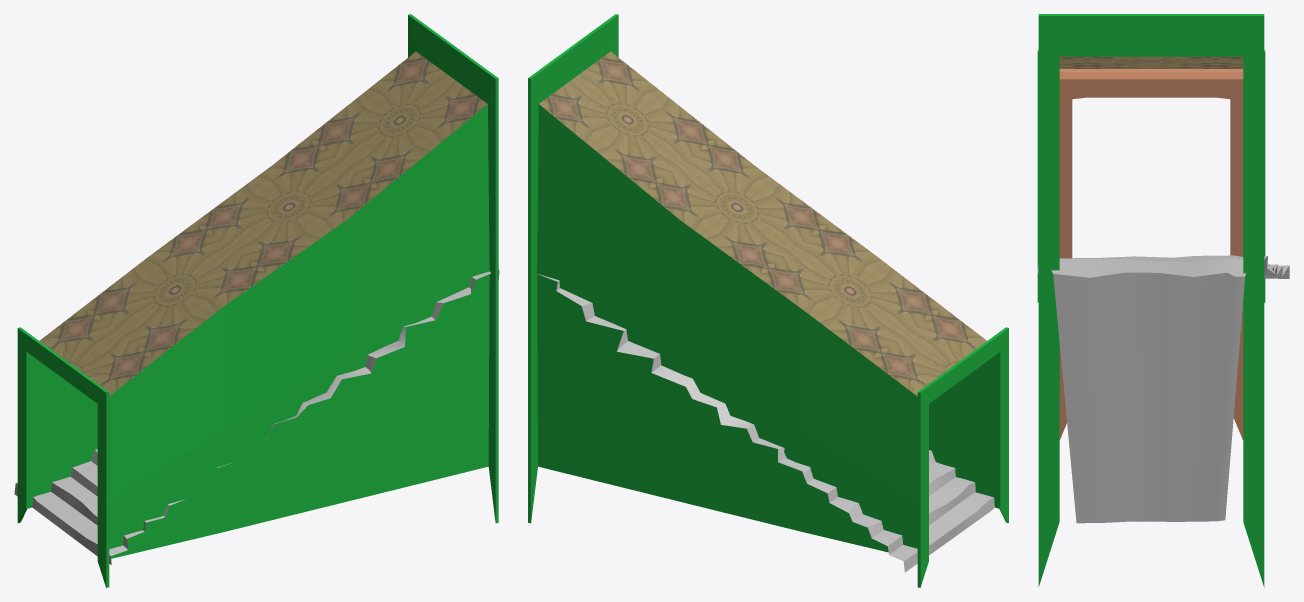
File: HallWay Stairs 01.fbx
The picture shows the model from 3 angles, left to right: view 1: azimuth 30°, elevation 25°; view 2: azimuth 150°, elevation 25°; view 3: azimuth 270°, elevation 25°; orthographic projection. The views are drawn at different scales.
Parts seen in each view (by area): view 1: Cube_001, Plane; view 2: Cube_001, Plane; view 3: Plane, Cube_001.
Part boxes in pixels (box(x1,y1,x2,y2)): Cube_001: box(17, 14, 498, 587); Plane: box(14, 269, 499, 564); Cube_001: box(528, 14, 1008, 587); Plane: box(538, 274, 994, 572); Plane: box(1037, 255, 1289, 523); Cube_001: box(1037, 14, 1265, 587).
Size of the model in its own units: 986 by 1045 by 418.
